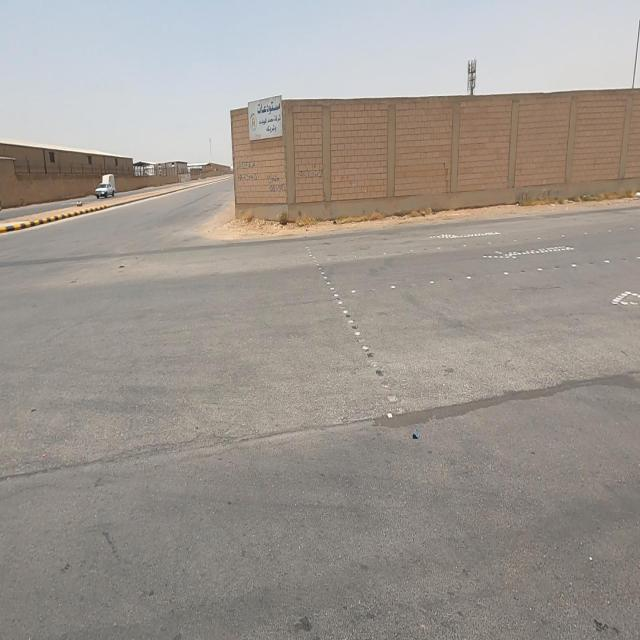Graffiti: (236, 159, 259, 183), (267, 173, 286, 196), (297, 170, 324, 183)
